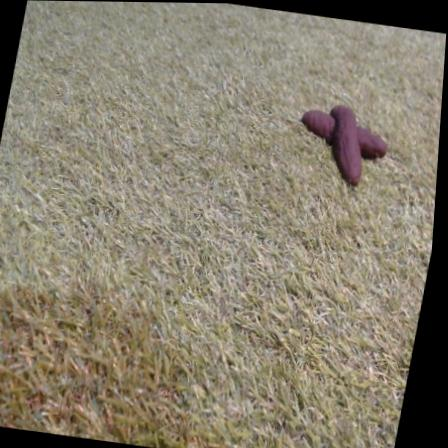dog-poop: (297, 98, 395, 179)
